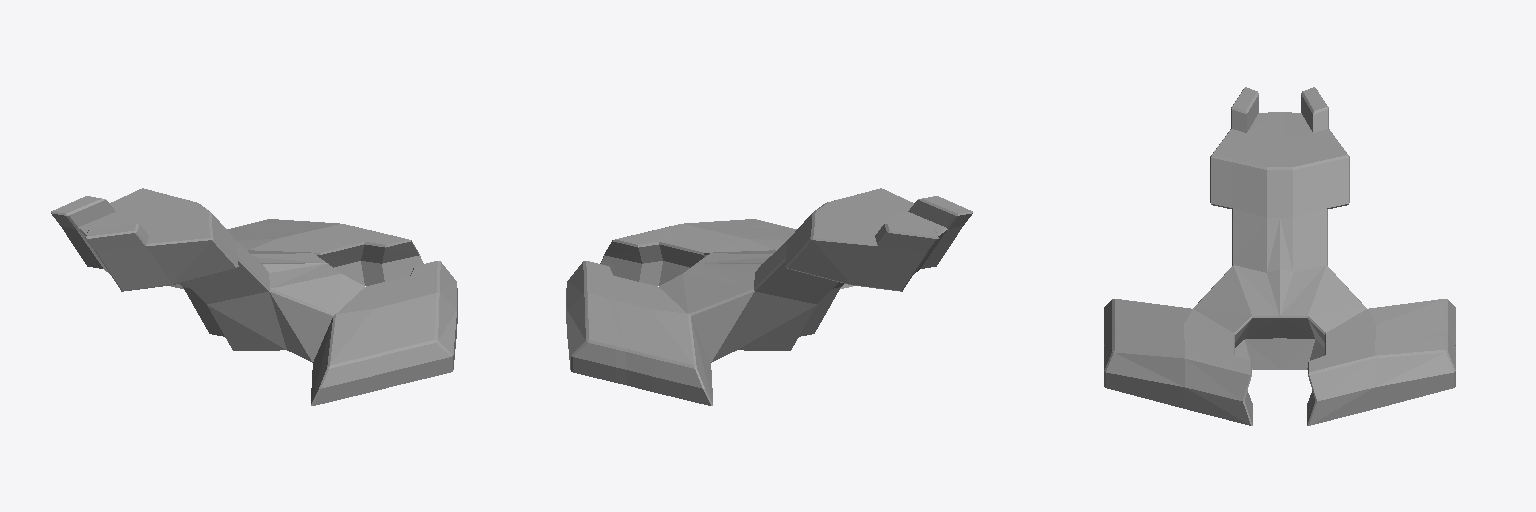
File: NewVulcan.obj
The picture shows the model from 3 angles: view 1: azimuth 30°, elevation 25°; view 2: azimuth 150°, elevation 25°; view 3: azimuth 270°, elevation 25°; orthographic projection.
Parts seen in each view (by area): view 1: Cube.001; view 2: Cube.001; view 3: Cube.001.
Part boxes in pixels (x1,y1,x2,y2): Cube.001: (51, 188, 457, 405); Cube.001: (566, 188, 972, 405); Cube.001: (1104, 87, 1455, 425).
Size of the model in its own units: 18.11 by 7.21 by 14.7.